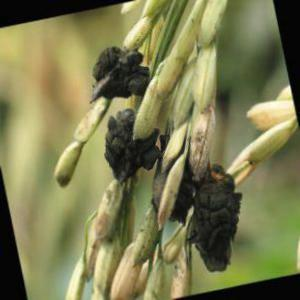Leaf_Scald: (195, 167, 239, 280), (86, 41, 154, 100), (110, 114, 155, 178)
